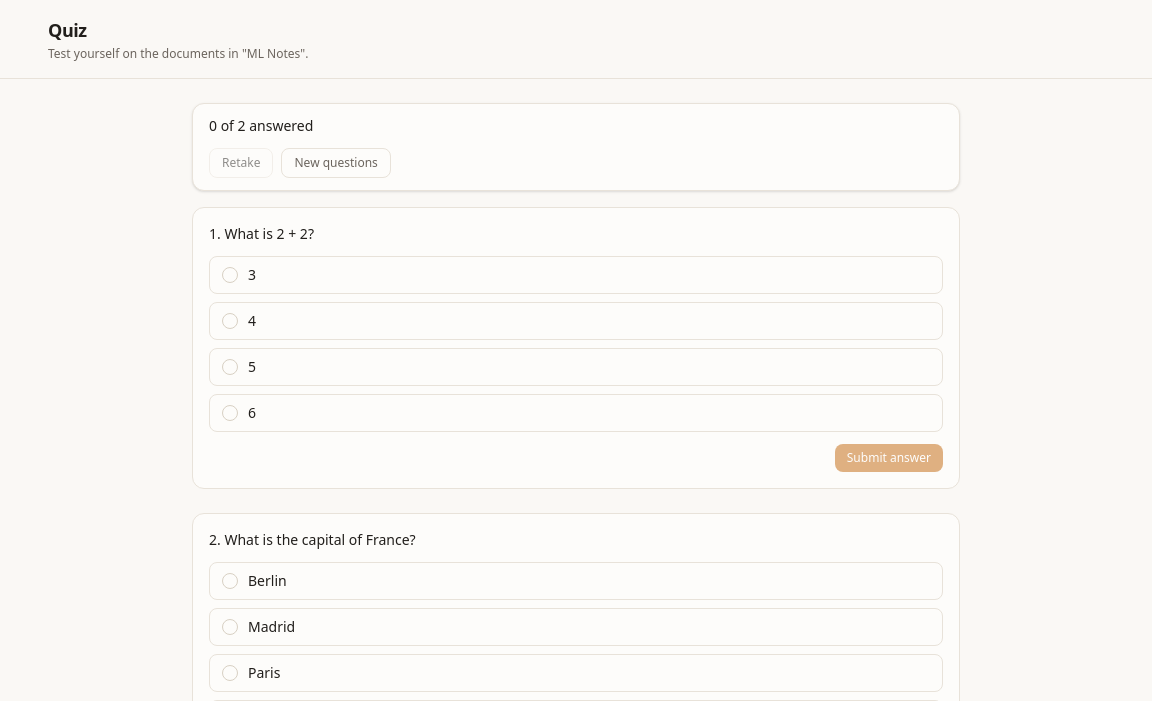
Test case: QuizView › shows a live running score that becomes the final score once every question is submitted
Check: the text "1. What is 2 + 2?" is shown, box [209,224,314,243]
What coordinates should you click on to do the following:
click the radio button labelled "4"
I would click on:
 (230, 321)
Its box is [209,302,943,340].
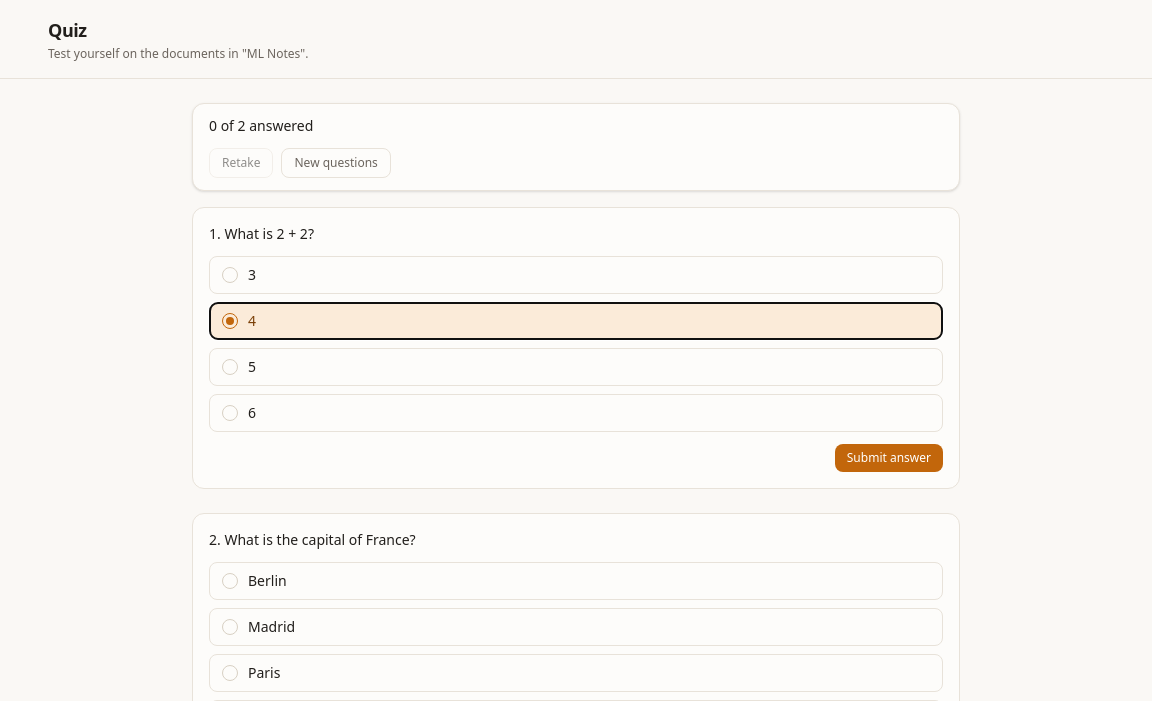
What coordinates should you click on to do the following:
click the button "Submit answer"
I would click on:
 (889, 458)
Its box is [835,444,943,472].
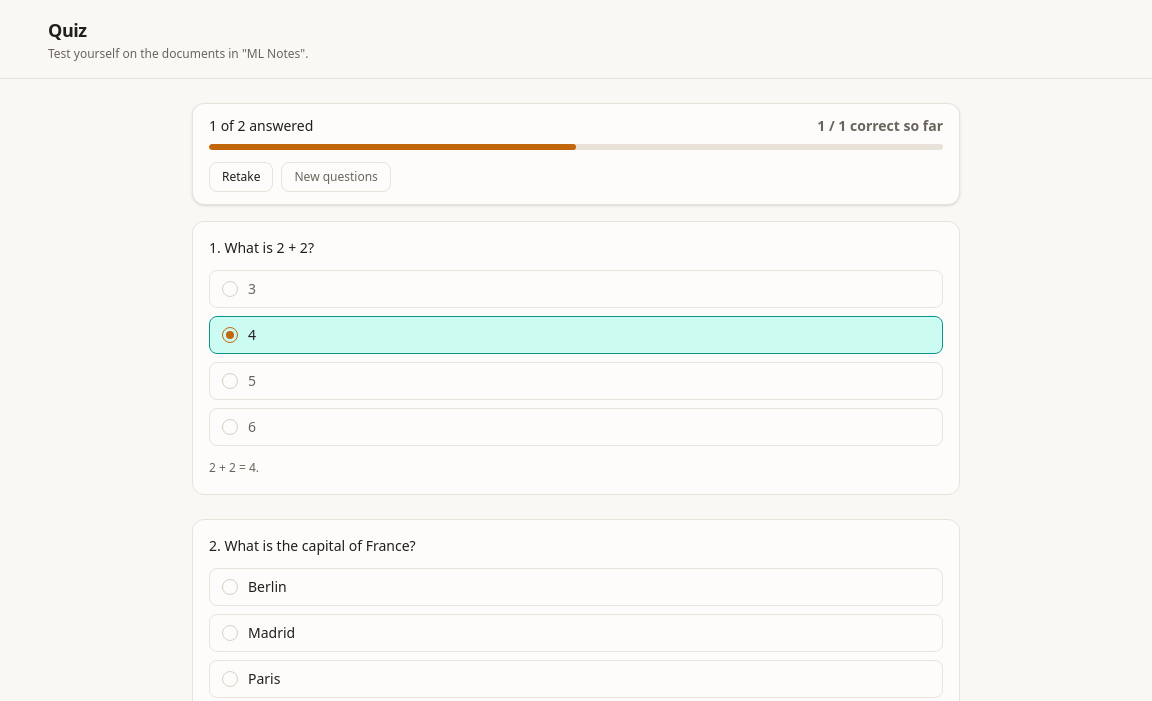
Check: the text "1 / 1 correct so far" is shown, box [817,116,943,136]
What coordinates should you click on to do the following:
click the radio button labelled "Berlin"
I would click on:
 (267, 586)
Its box is [209,568,943,606].
(page scrolled)
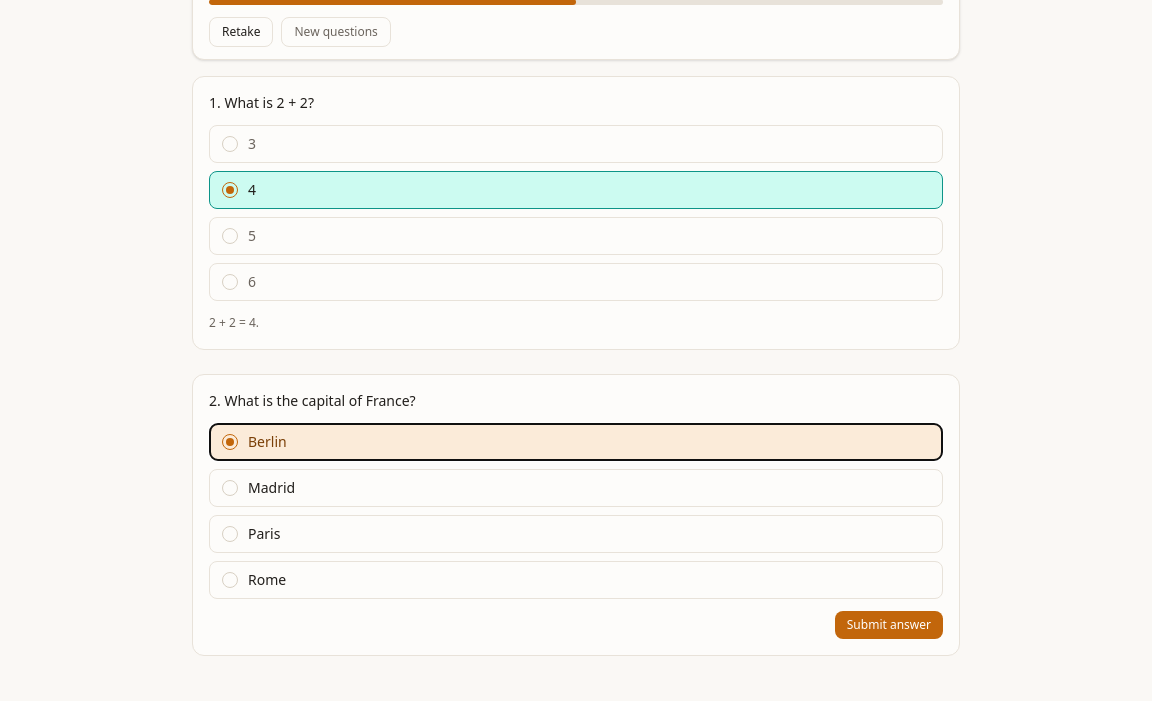
What coordinates should you click on to do the following:
click the button "Submit answer"
I would click on:
 (889, 624)
Its box is [835,610,943,638].
(page scrolled)
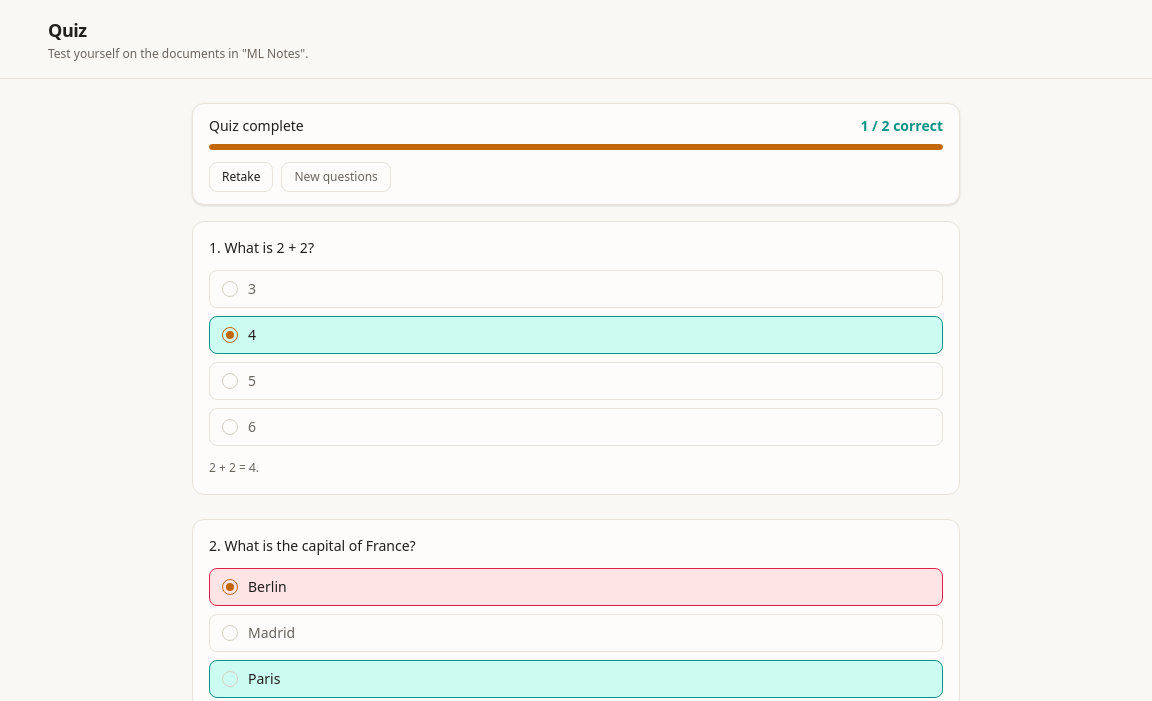
Check: the text "Quiz complete" is shown, box [209,116,304,136]
Check: the text "1 / 2 correct" is shown, box [860,116,943,136]
